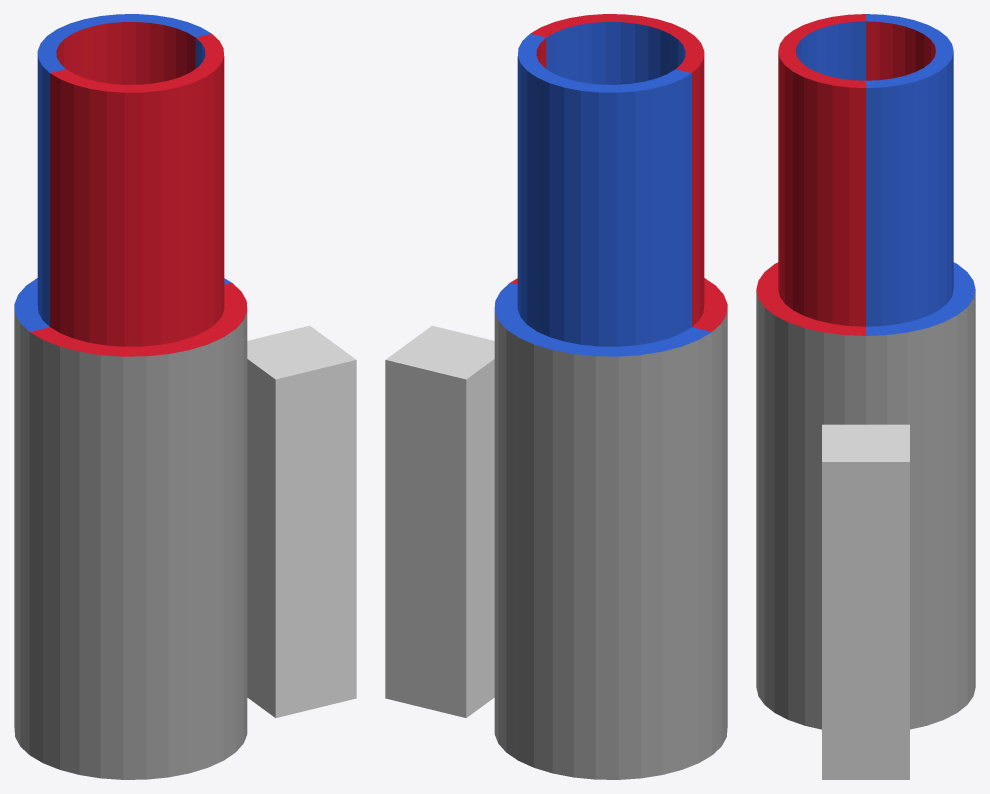
Rendered from Canon.fbx.
3 views of the same model, side by side, from view 1: azimuth 30°, elevation 25°; view 2: azimuth 150°, elevation 25°; view 3: azimuth 270°, elevation 25° (orthographic). The views are drawn at different scales.
Visible parts, largest first — view 1: PipeBottom, PipeEnd, Lever; view 2: PipeBottom, PipeEnd, Lever; view 3: PipeBottom, PipeEnd, Lever.
Boxes of the visible parts, x1,y1,x2,y2 form: PipeBottom: [14, 278, 247, 779]; PipeEnd: [37, 14, 224, 346]; Lever: [247, 325, 356, 717]; PipeBottom: [494, 278, 727, 779]; PipeEnd: [517, 14, 704, 346]; Lever: [385, 325, 494, 717]; PipeBottom: [756, 262, 975, 729]; PipeEnd: [778, 14, 953, 326]; Lever: [822, 424, 909, 779].
Size of the model in its own units: 187 by 400 by 125.
